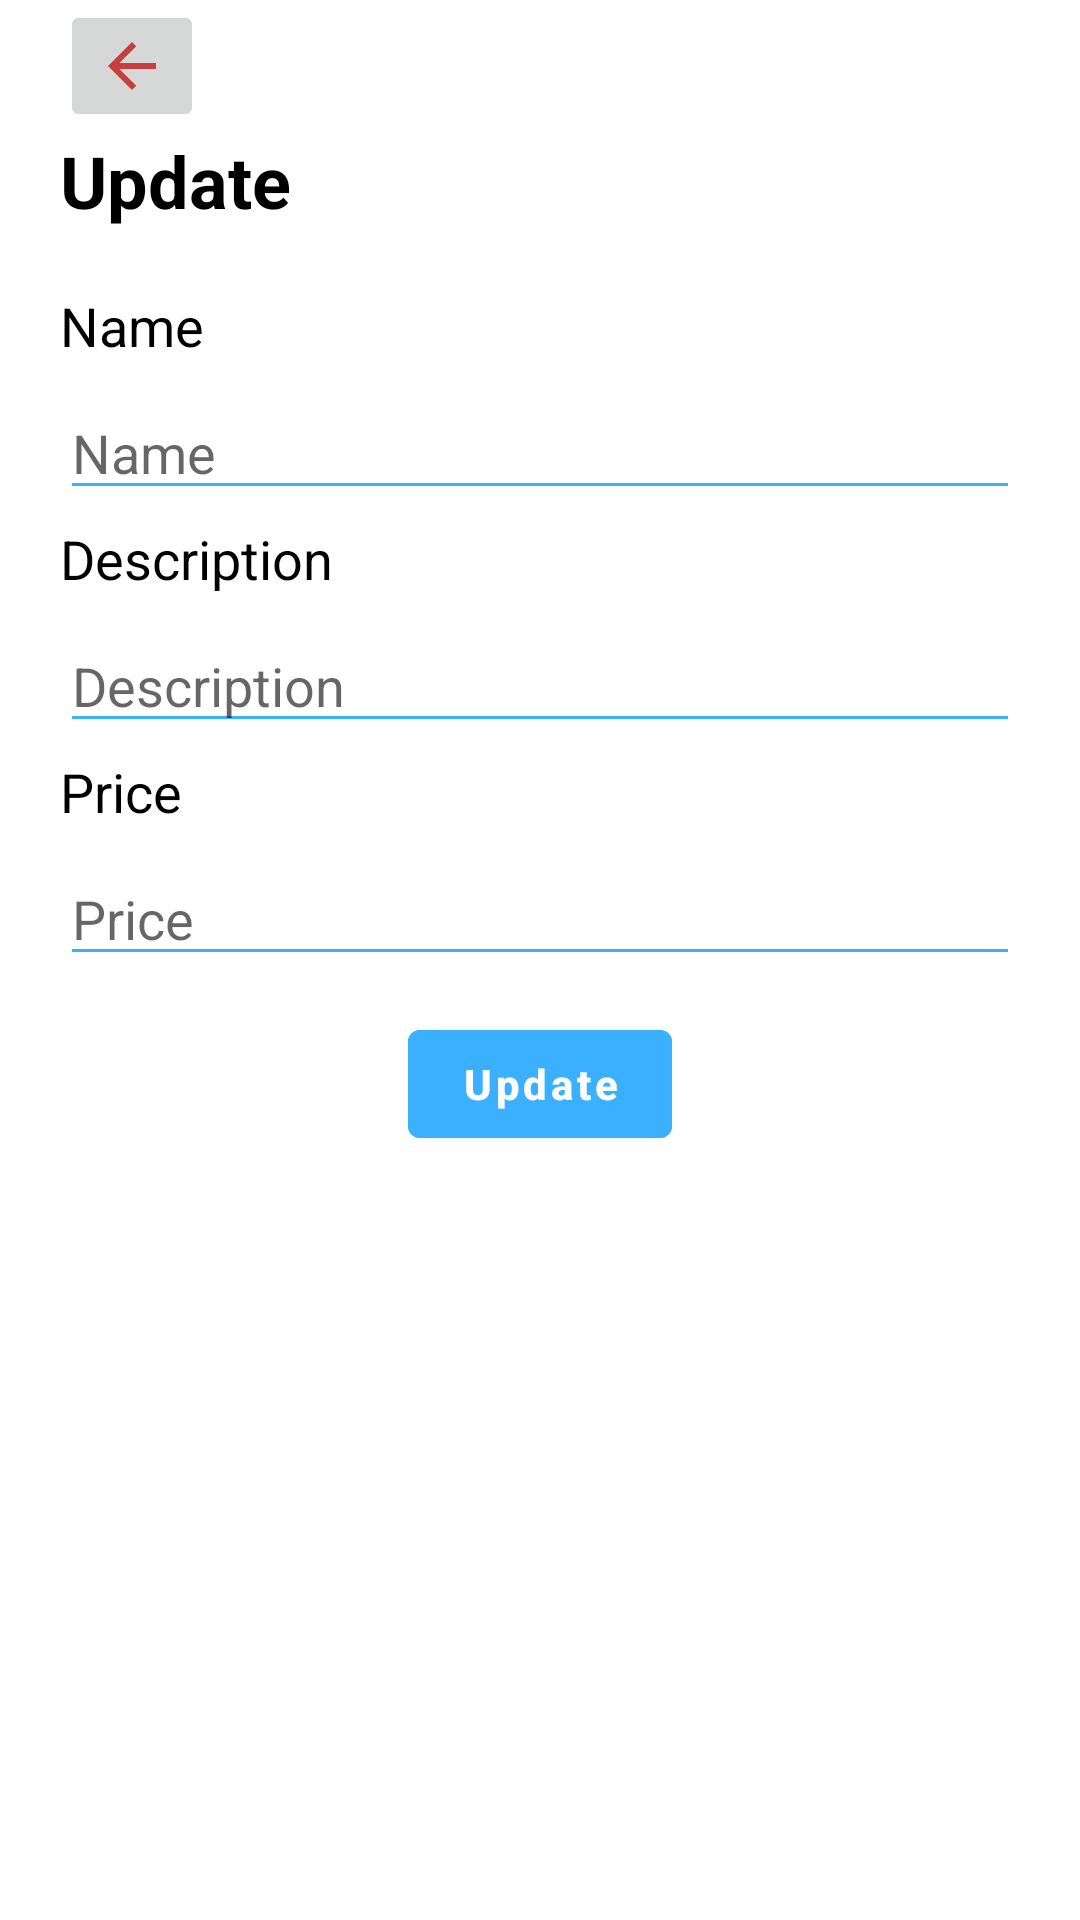

Icons on this 1080×1920 Android screen, each with its box as (x1, y1, x2, y2):
back: (72, 18, 192, 114)
